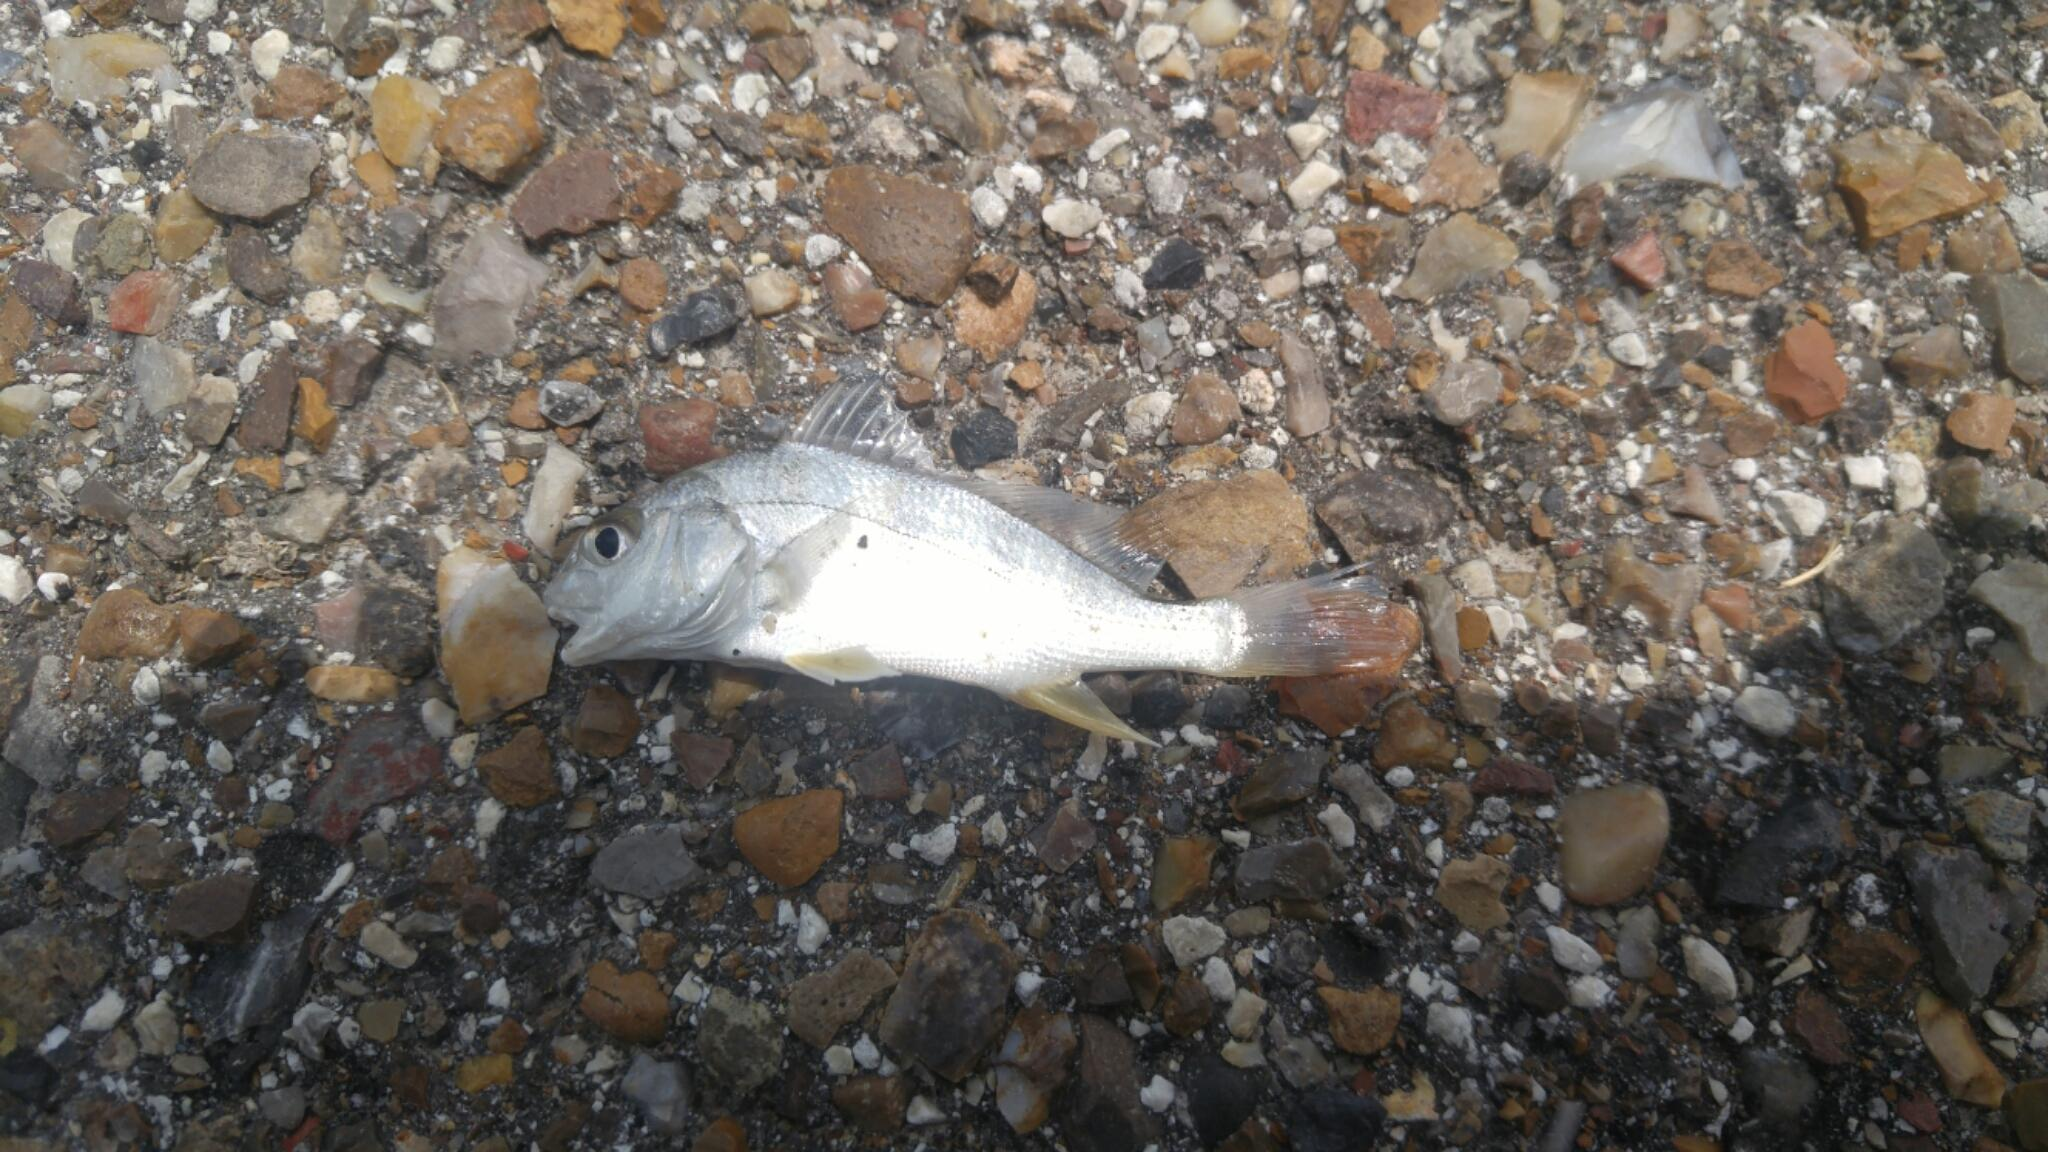Silver Perch: (544, 377, 1404, 747)
